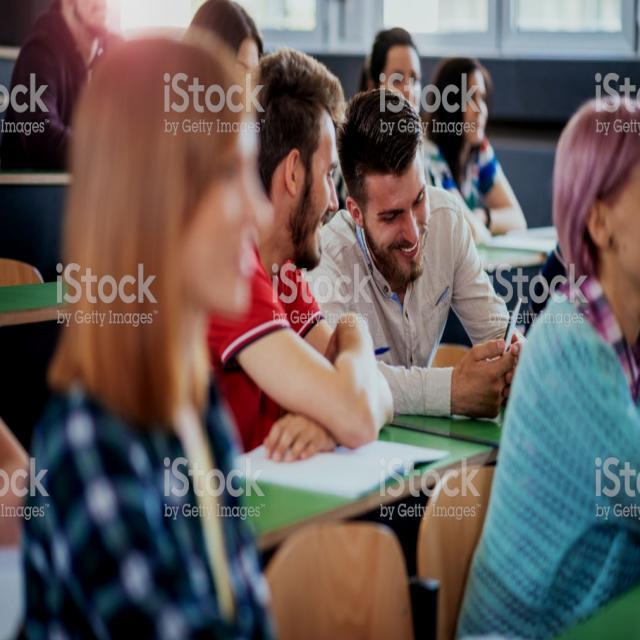cheating: (240, 35, 542, 430)
